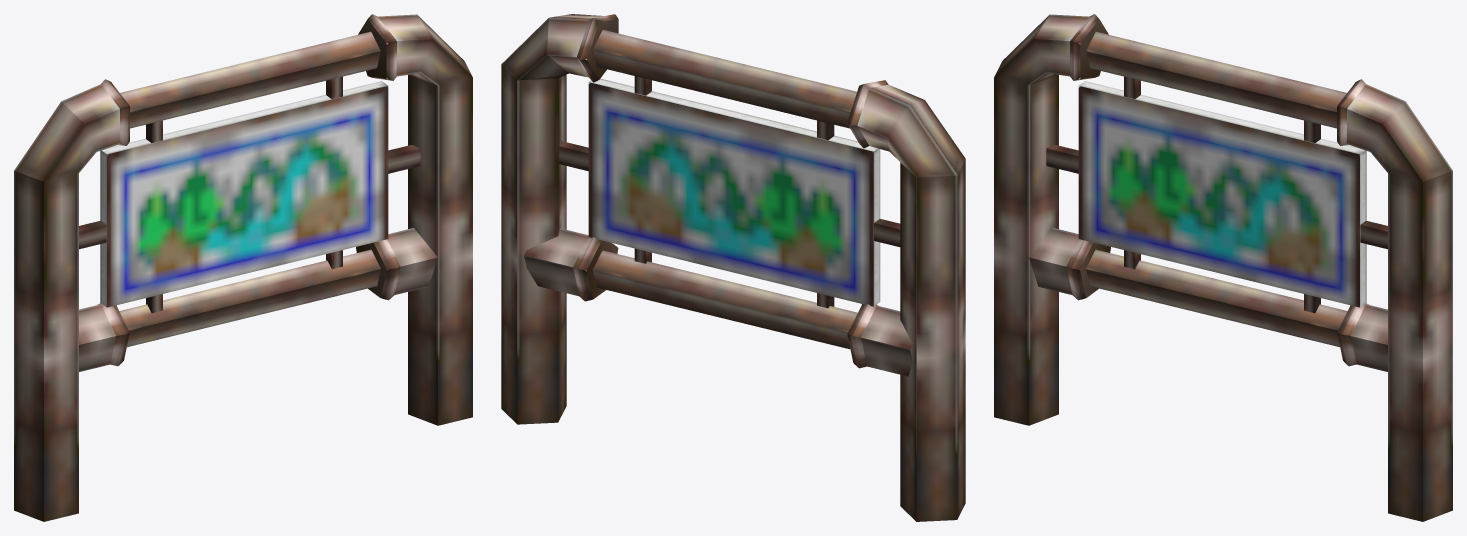
The model's file is Poly_SF_Outside_B_Signboard_02.obj.
The picture shows the model from 3 angles, left to right: view 1: azimuth 30°, elevation 25°; view 2: azimuth 150°, elevation 25°; view 3: azimuth 330°, elevation 25°; orthographic projection.
Parts seen in each view (by area): view 1: Cube.004, Cube.001, Cube.002, Cube.003; view 2: Cube.004, Cube.001, Cube.002, Cube.003; view 3: Cube.004, Cube.001, Cube.002, Cube.003.
Boxes of the visible parts, box(x1,y1,x2,y2) form: Cube.004: box(14, 14, 472, 521); Cube.001: box(100, 81, 388, 307); Cube.002: box(119, 31, 380, 347); Cube.003: box(79, 76, 420, 313); Cube.004: box(501, 14, 965, 521); Cube.001: box(588, 78, 880, 306); Cube.002: box(593, 30, 857, 349); Cube.003: box(559, 76, 900, 308); Cube.004: box(994, 14, 1452, 521); Cube.001: box(1078, 81, 1366, 307); Cube.002: box(1086, 31, 1347, 347); Cube.003: box(1046, 76, 1387, 313).
Size of the model in its own units: 0.8 by 0.6937 by 0.1077.
Materials: 1 (1 with a texture image).
